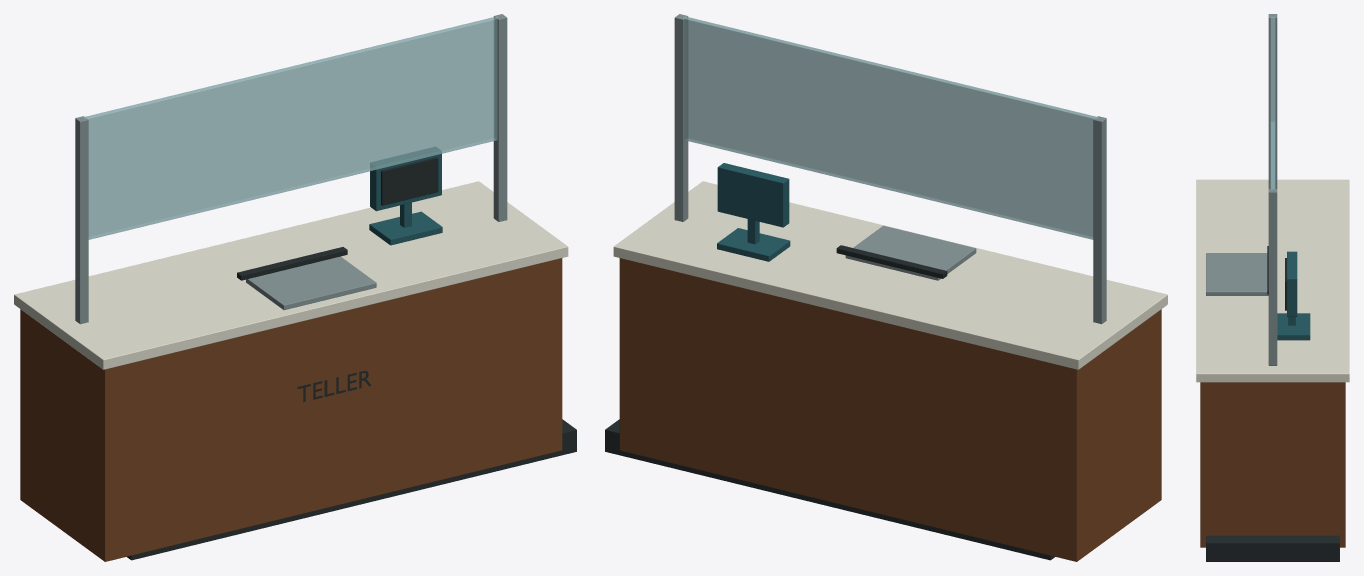
Rendered from source-edit.glb.
The picture shows the model from 3 angles, left to right: view 1: azimuth 30°, elevation 25°; view 2: azimuth 150°, elevation 25°; view 3: azimuth 270°, elevation 25°; orthographic projection. The views are drawn at different scales.
Visible parts, largest first — view 1: Counter_Body, Security_Glazing, Worktop, Transaction_Tray, Screen_Post.001, Screen_Post, Counter_Base, Screen, Screen_Housing, Terminal_Foot, Document_Slot; view 2: Counter_Body, Security_Glazing, Worktop, Screen_Housing, Transaction_Tray, Screen_Post.001, Screen_Post, Counter_Base, Terminal_Foot, Document_Slot; view 3: Worktop, Counter_Body, Counter_Base, Transaction_Tray, Screen_Post.001, Screen_Post, Security_Glazing, Terminal_Foot, Screen_Housing.
Boxes of the visible parts, <box> form: Counter_Body: <box>20,258,562,561</box>; Security_Glazing: <box>83,16,498,239</box>; Worktop: <box>14,181,568,369</box>; Transaction_Tray: <box>246,256,376,310</box>; Screen_Post.001: <box>493,14,507,221</box>; Screen_Post: <box>75,116,88,324</box>; Counter_Base: <box>127,419,576,560</box>; Screen: <box>381,157,438,205</box>; Screen_Housing: <box>370,147,441,211</box>; Terminal_Foot: <box>369,211,442,245</box>; Document_Slot: <box>237,247,347,280</box>; Counter_Body: <box>619,258,1161,561</box>; Security_Glazing: <box>683,16,1098,239</box>; Worktop: <box>613,181,1167,369</box>; Screen_Housing: <box>717,163,789,227</box>; Transaction_Tray: <box>845,225,976,280</box>; Screen_Post.001: <box>674,14,688,221</box>; Screen_Post: <box>1093,116,1106,324</box>; Counter_Base: <box>605,419,1054,560</box>; Terminal_Foot: <box>717,228,790,261</box>; Document_Slot: <box>836,245,947,278</box>; Worktop: <box>1196,179,1349,382</box>; Counter_Body: <box>1200,382,1345,547</box>; Counter_Base: <box>1206,535,1339,561</box>; Transaction_Tray: <box>1206,253,1268,295</box>; Screen_Post.001: <box>1268,189,1277,365</box>; Screen_Post: <box>1268,14,1277,188</box>; Security_Glazing: <box>1270,16,1275,189</box>; Terminal_Foot: <box>1277,313,1310,340</box>; Screen_Housing: <box>1287,251,1297,316</box>.
Bounding box in the file's own units: 2.47 × 2.05 × 0.8.
